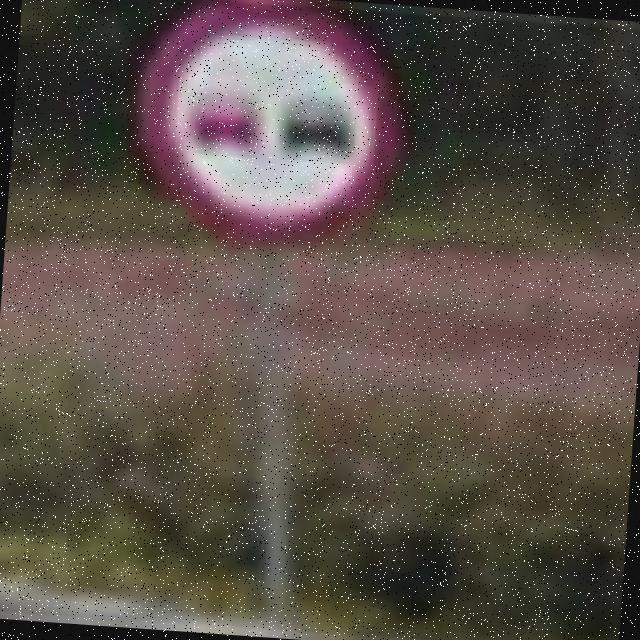Zakaz wyprzedzania: (126, 0, 410, 253)
